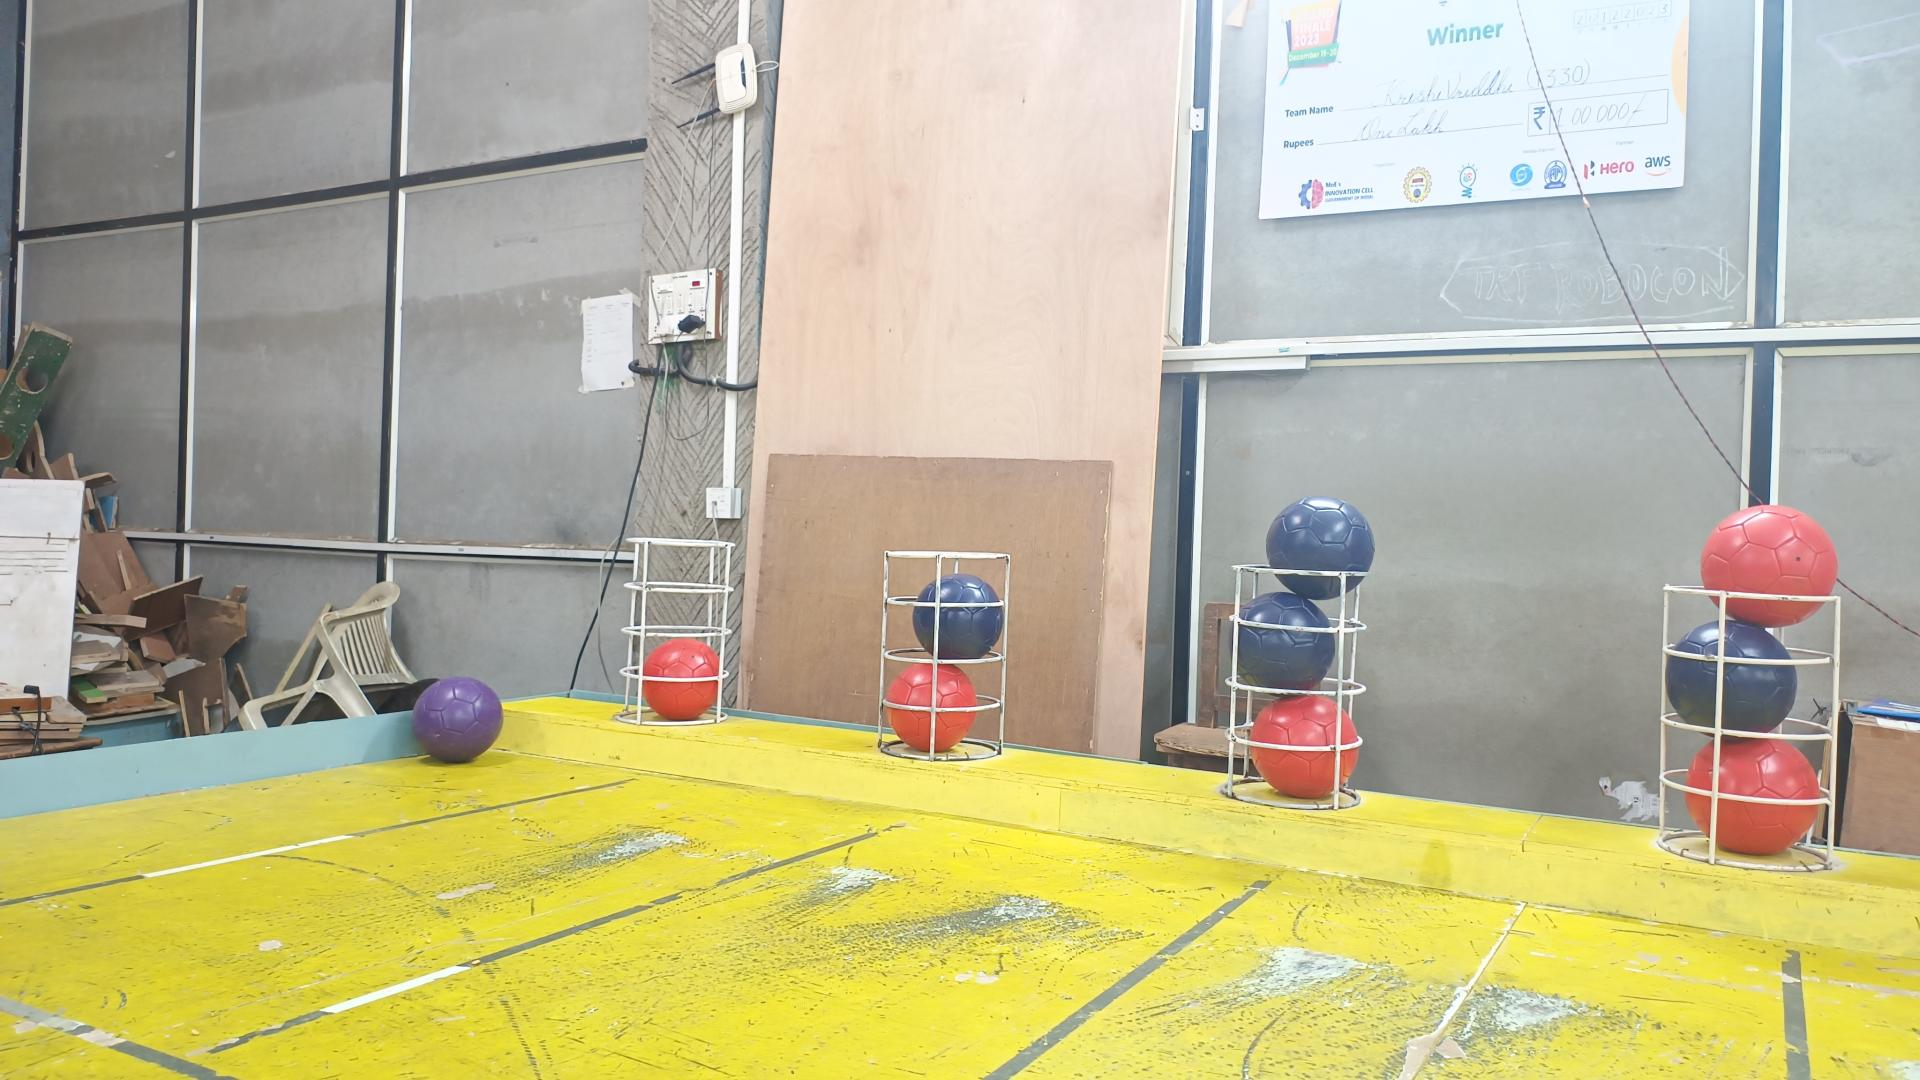dhoka: (1665, 618, 1796, 732), (1263, 495, 1377, 600), (1230, 592, 1335, 690), (911, 574, 1005, 661)
laale: (1702, 506, 1837, 626), (1684, 738, 1822, 855), (1249, 694, 1357, 799), (885, 663, 978, 754), (641, 637, 720, 720)
